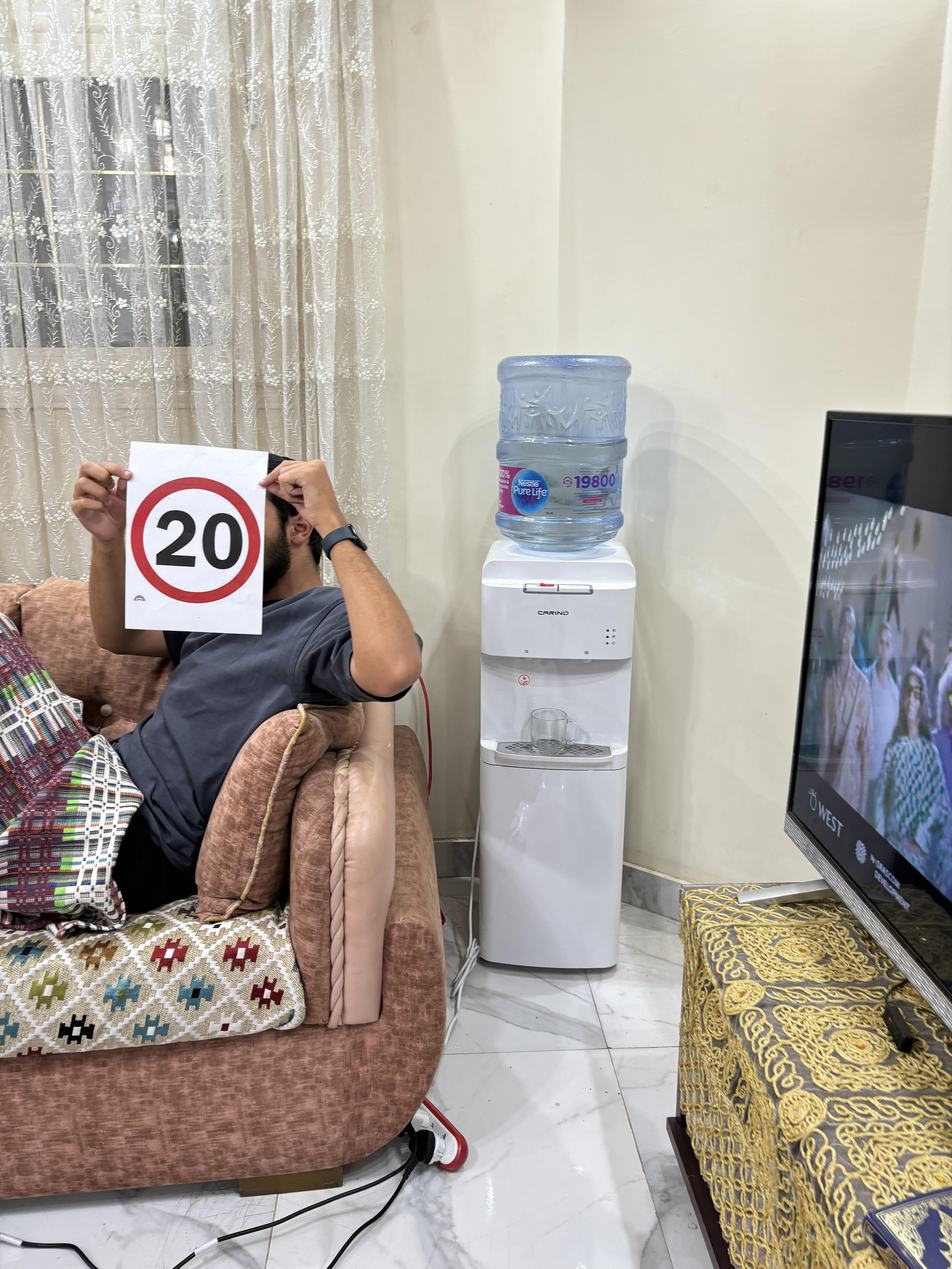20-Speed: (127, 474, 257, 605)
